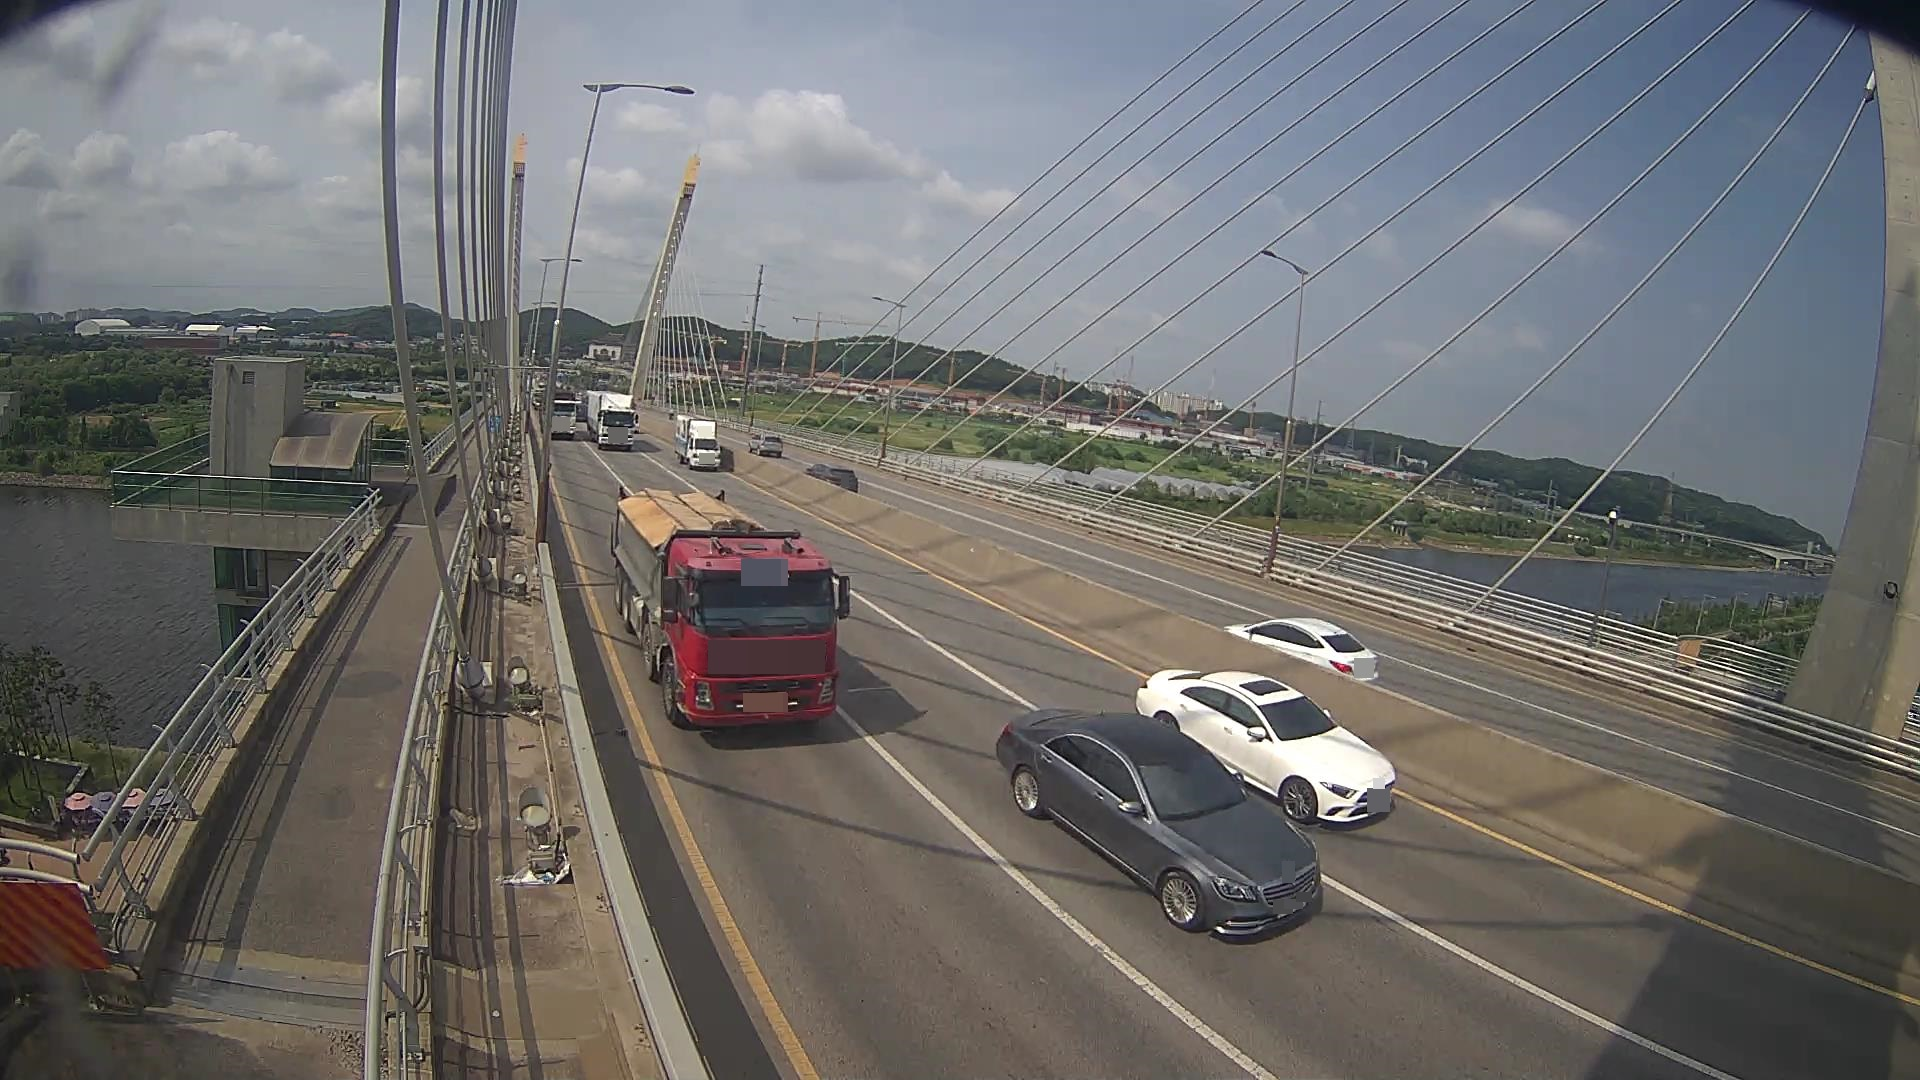정상차량: (610, 485, 849, 724)
